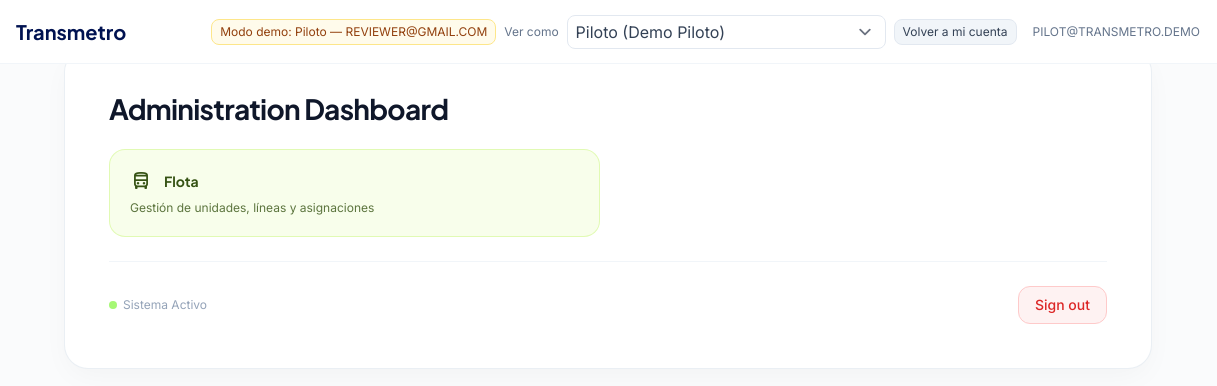
Scenario: DemoRoleSwitcher › offers a way back to the reviewer's own account while impersonating
Expected: the text "Modo demo: Piloto — REVIEWER@GMAIL.COM" is shown, [211,18,496,44]
Click the button "Volver a mi cuenta". click: (955, 32)
box: [894,18,1016,44]
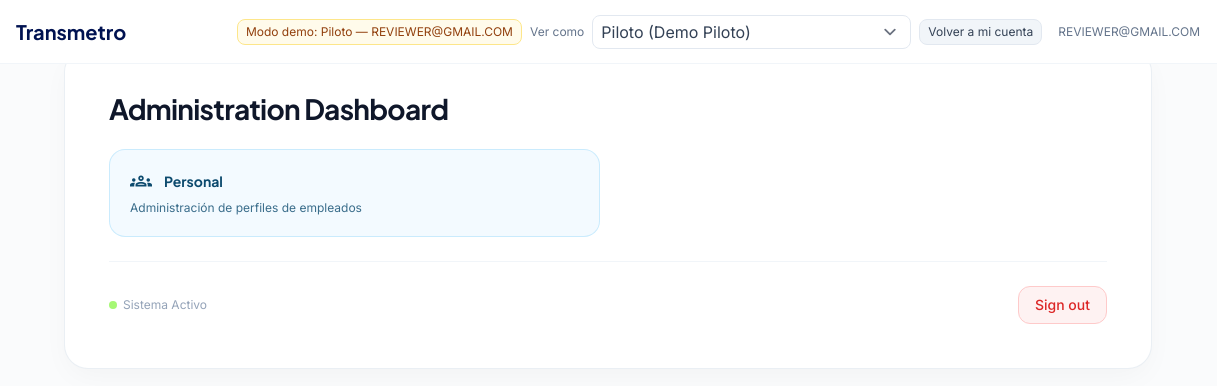
Expected: the text "Personal" is shown, [164,171,223,191]
